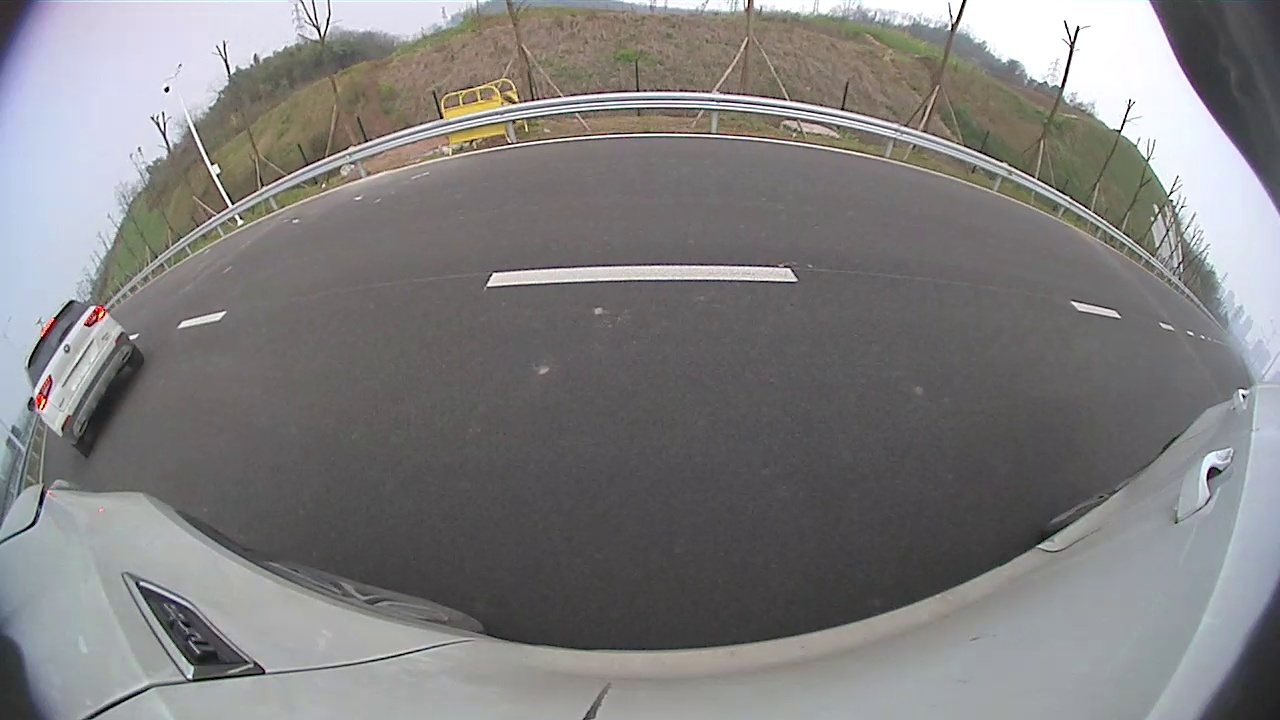car: (24, 299, 144, 457)
